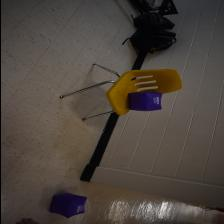cube: (47, 192, 88, 218), (126, 91, 162, 111)
